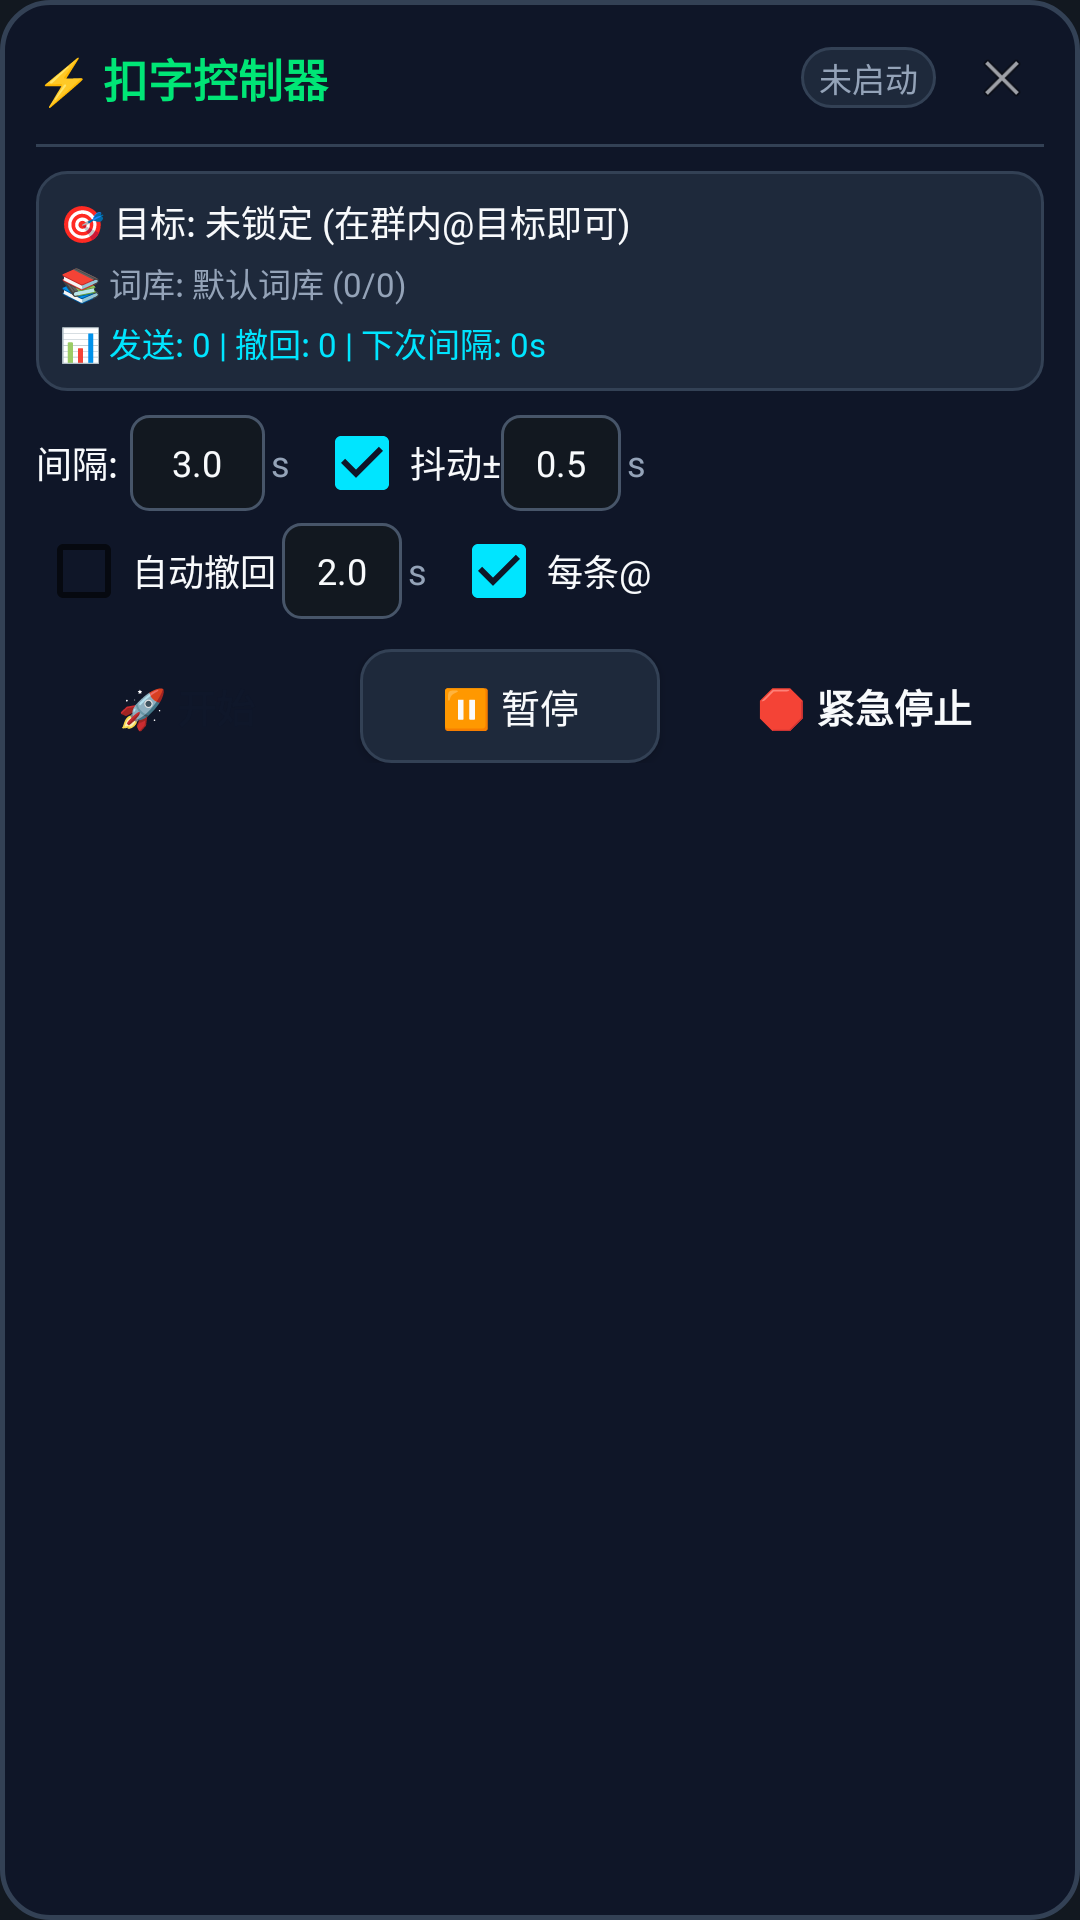

Point at icon controls on the screen. Image size 1080px x 1920px, points as (x,y).
close clear cancel: (1002,78)
